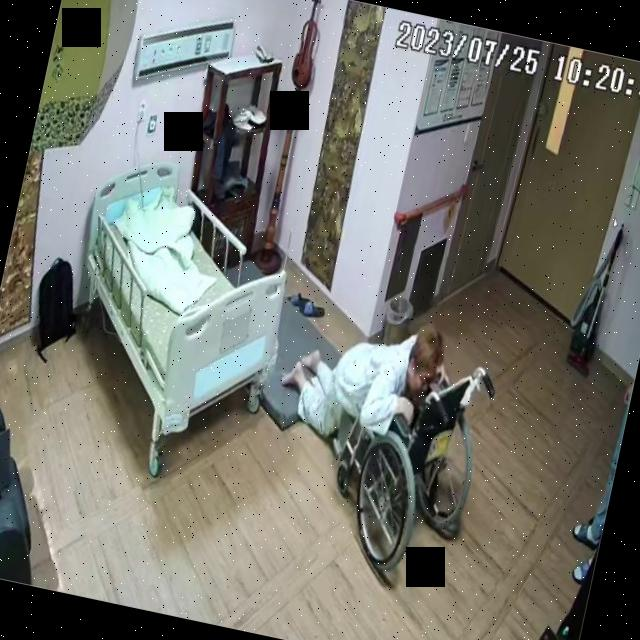fall: (268, 301, 448, 463)
patient: (268, 302, 448, 462)
wheelchair: (318, 341, 502, 591)
